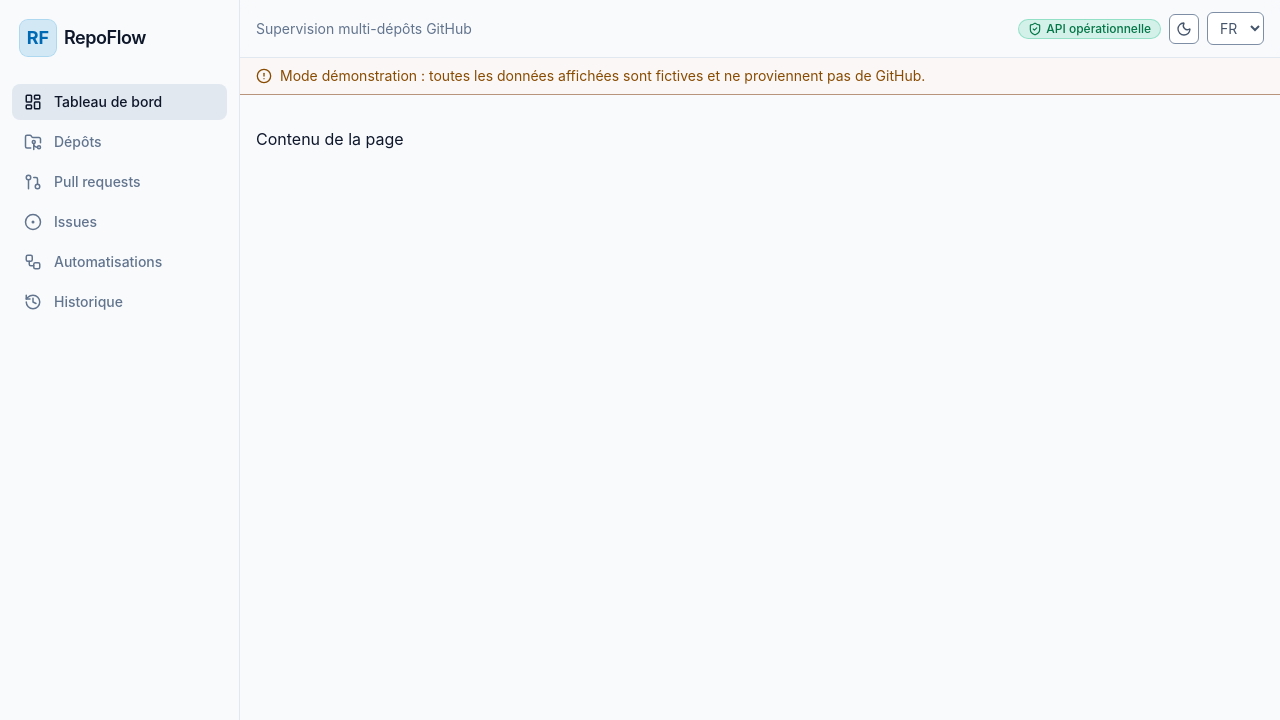
AppLayout › déplace le focus sur le contenu à chaque navigation
The image size is (1280, 720).
Click the link "Dépôts" at (63, 142), box [24,133,102,151]
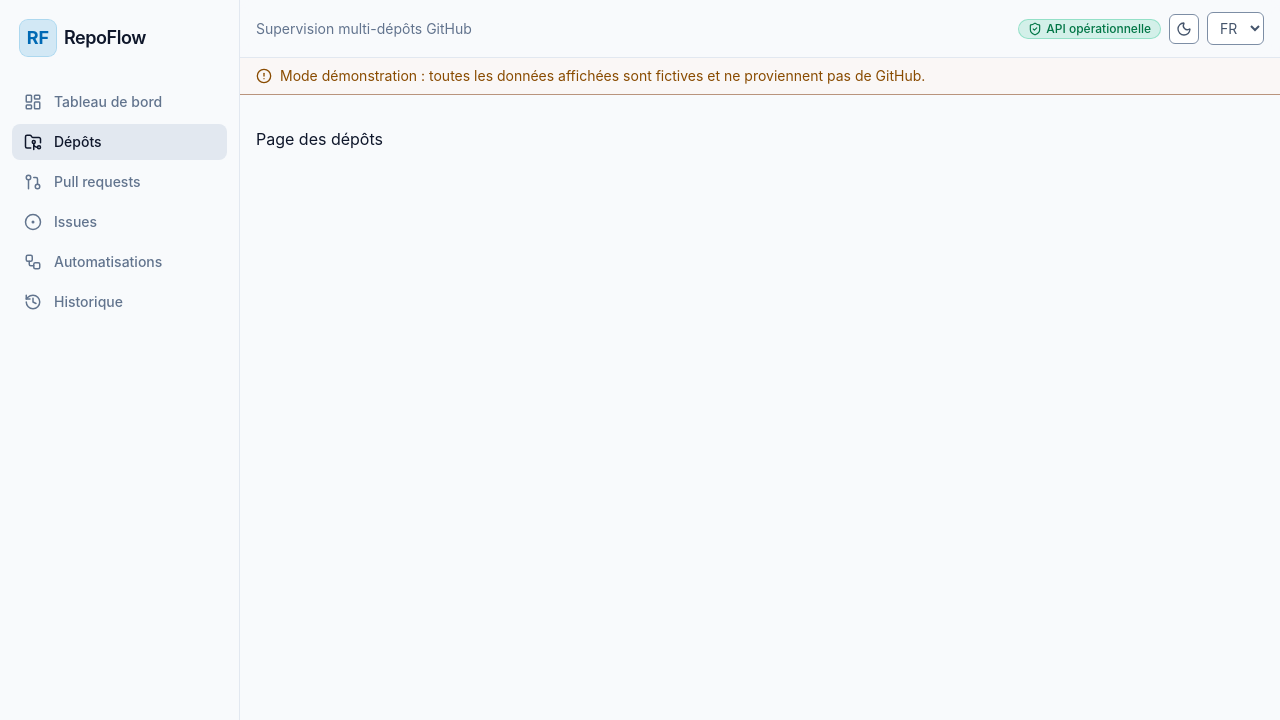
Expected: the text "Page des dépôts" is shown, [256,129,383,149]
